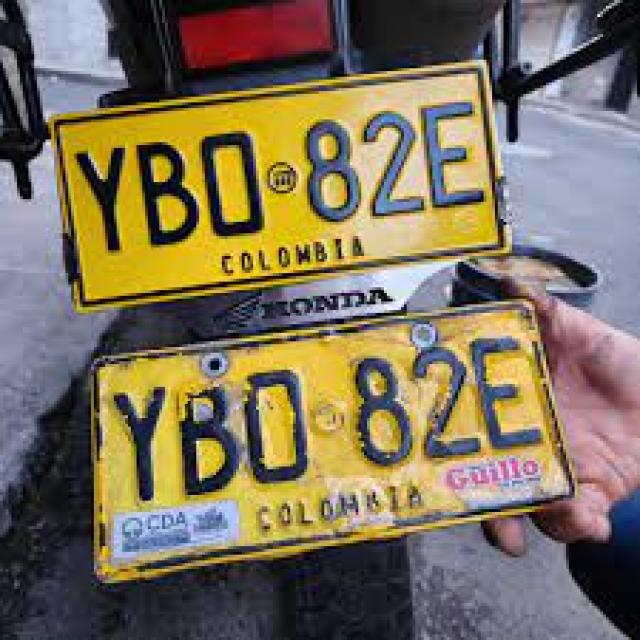placa_moto: (87, 298, 587, 597), (50, 59, 512, 315)
